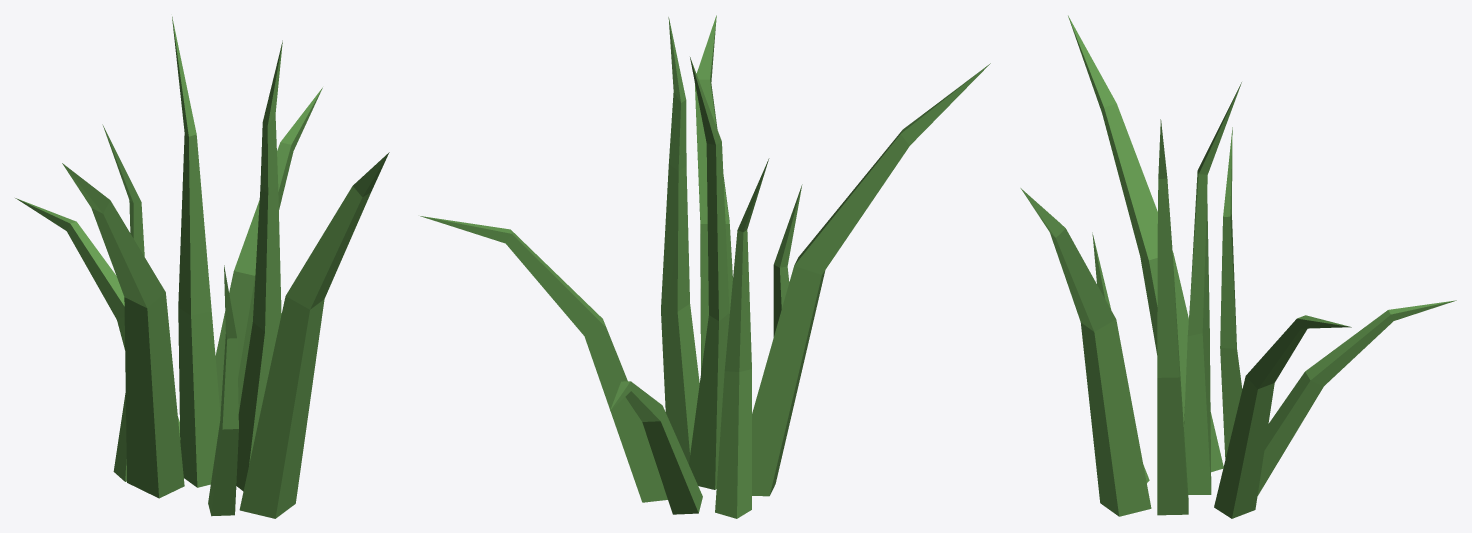
The model's file is Grass_03.fbx.
3 views of the same model, side by side, from view 1: azimuth 30°, elevation 25°; view 2: azimuth 150°, elevation 25°; view 3: azimuth 270°, elevation 25° (orthographic). The views are drawn at different scales.
Parts seen in each view (by area): view 1: Grass_03_LOD0; view 2: Grass_03_LOD0; view 3: Grass_03_LOD0.
Part boxes in pixels (box(x1,y1,x2,y2)): Grass_03_LOD0: box(15, 16, 389, 518); Grass_03_LOD0: box(420, 15, 990, 518); Grass_03_LOD0: box(1020, 15, 1456, 518).
Size of what is drawn, in the model's own units: 41.74 by 43.67 by 41.67.
